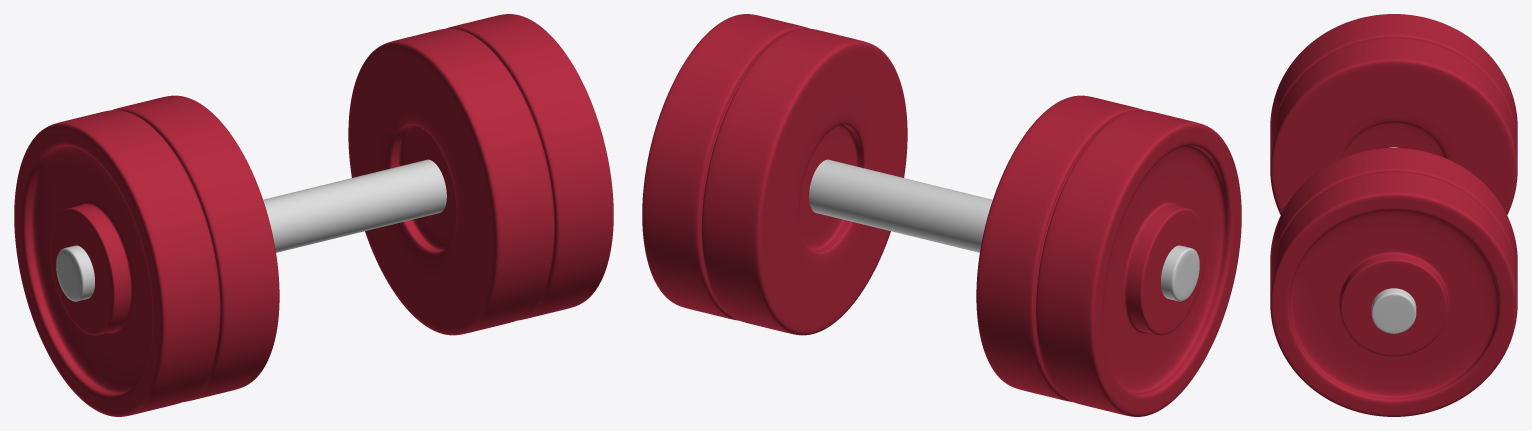
The model's file is gym.fbx.
3 views of the same model, side by side, from view 1: azimuth 30°, elevation 25°; view 2: azimuth 150°, elevation 25°; view 3: azimuth 270°, elevation 25° (orthographic). The views are drawn at different scales.
Visible parts, largest first — view 1: Gym; view 2: Gym; view 3: Gym.
Part boxes in pixels (bbox=[...]): Gym: bbox=[14, 14, 613, 416]; Gym: bbox=[642, 14, 1241, 416]; Gym: bbox=[1270, 14, 1517, 416].
Size of the model in its own units: 190 by 101 by 101.
